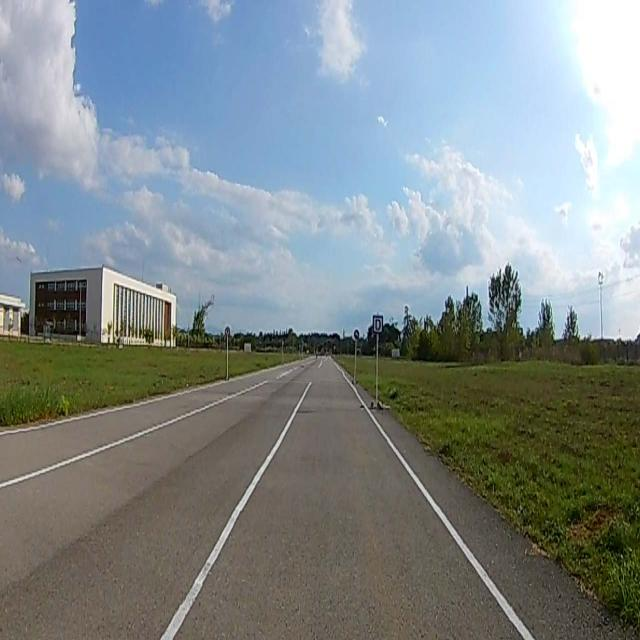durak: (373, 317, 382, 334)
